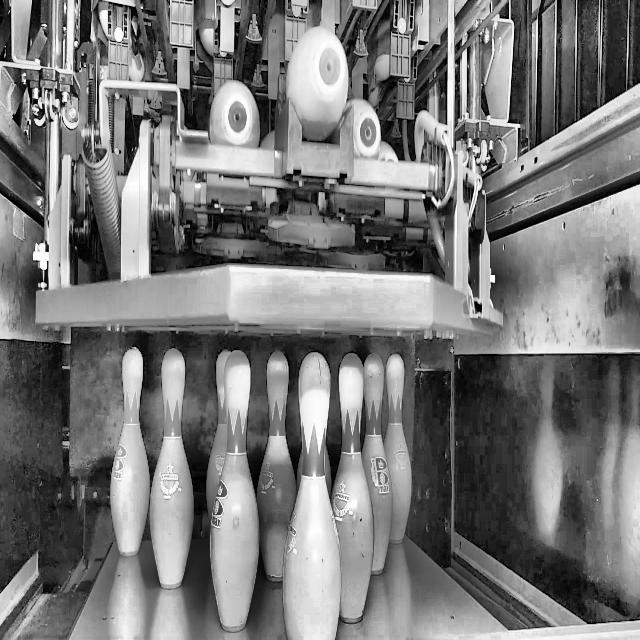bowling-pins: (283, 352, 341, 639), (209, 350, 259, 632), (331, 353, 374, 623), (150, 348, 193, 589), (257, 351, 296, 582), (110, 348, 149, 556), (362, 353, 392, 574), (385, 354, 412, 543), (206, 350, 230, 528)
